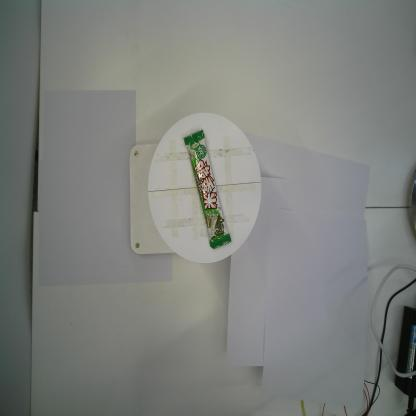Chocolate: (182, 128, 232, 250)
